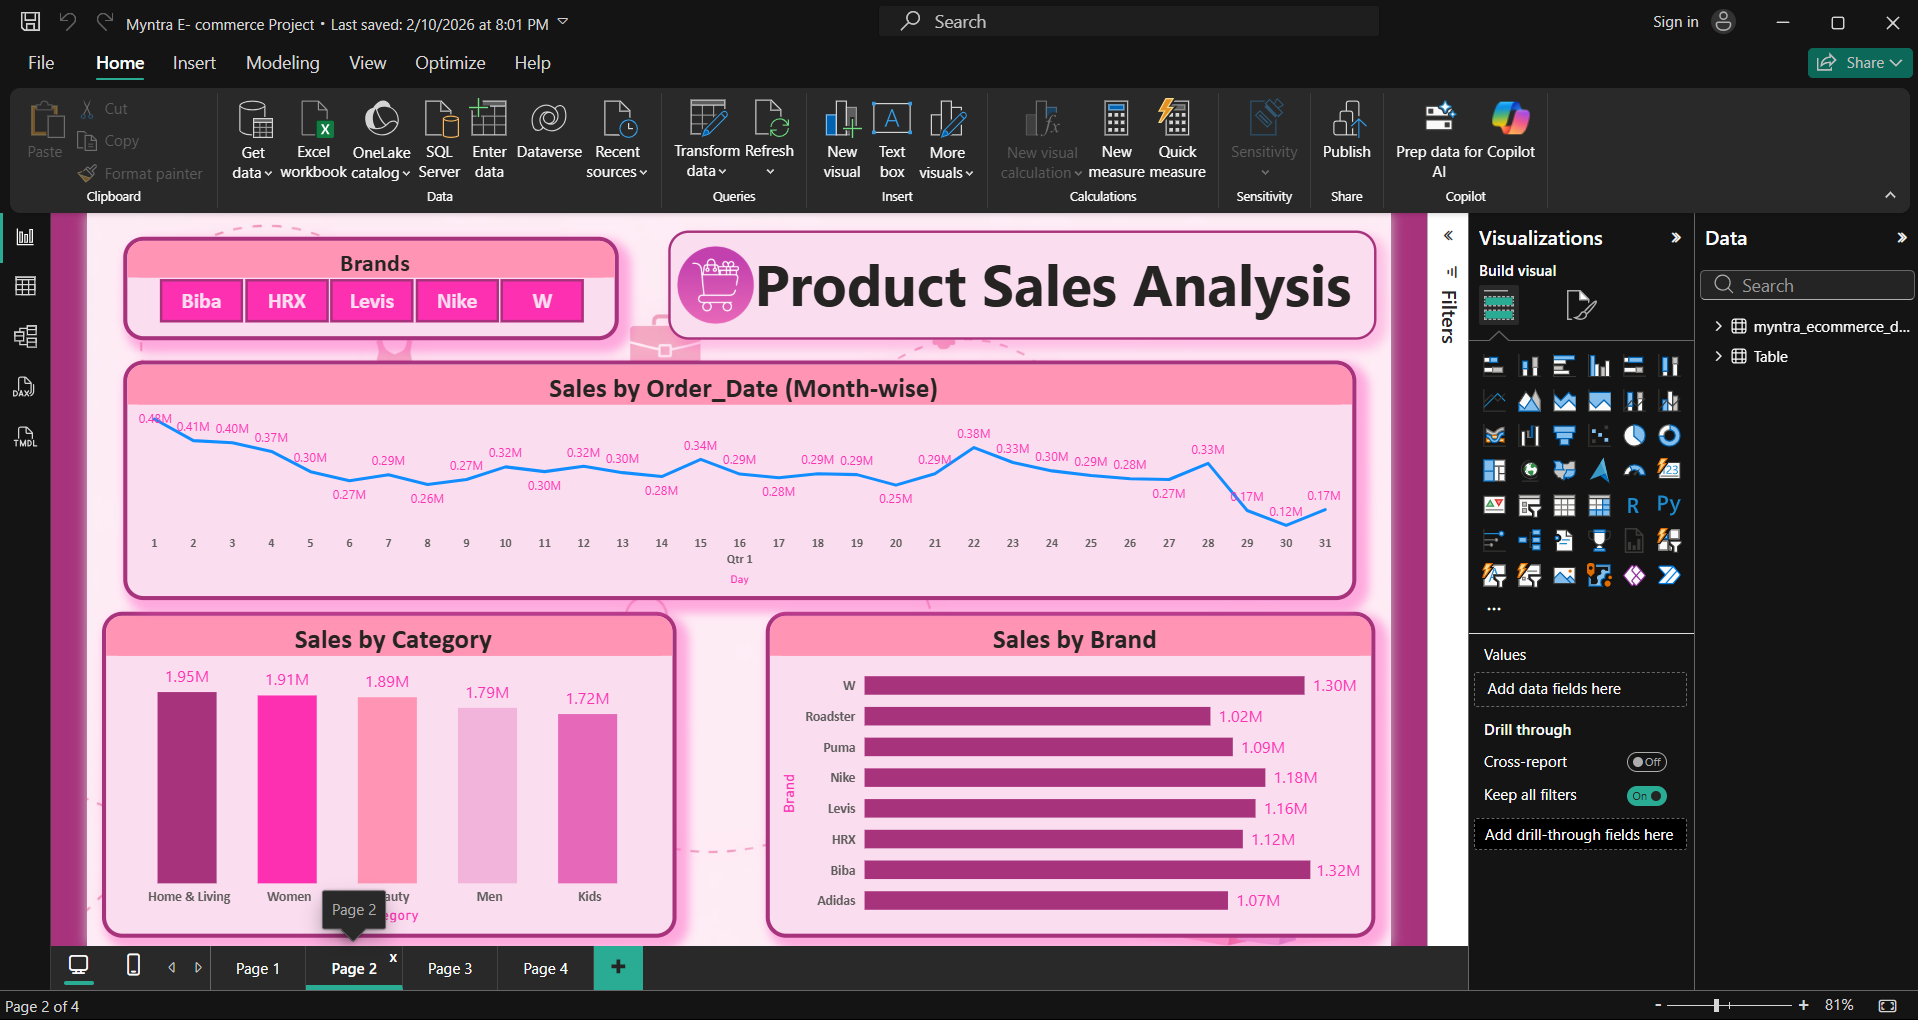

The dashboard page shown, as its layout file describes it:
{"tool":"powerbi","page":{"name":"Page 2","canvas":[1280,720],"ordinal":1},"visuals":[{"type":"clusteredColumnChart","title":"Sales by Category","fields":{"Category":["myntra_ecommerce_dataset (1).Category"],"Y":["Sum(myntra_ecommerce_dataset (1).Sales_Amount)"]},"box":[15,391.2,563.8,320],"z":0},{"type":"barChart","title":"Sales by Brand","fields":{"Category":["myntra_ecommerce_dataset (1).Brand"],"Y":["Sum(myntra_ecommerce_dataset (1).Sales_Amount)"]},"box":[666.2,391.2,598.8,320],"z":1000},{"type":"lineChart","title":"Sales by Order_Date (Month-wise)","fields":{"Y":["Sum(myntra_ecommerce_dataset (1).Sales_Amount)"],"Category":["myntra_ecommerce_dataset (1).Order_Date.Variation.Date Hierarchy.Quarter","myntra_ecommerce_dataset (1).Order_Date.Variation.Date Hierarchy.Day"]},"box":[35,145,1210,235],"z":2000},{"type":"textbox","box":[570,17.5,695,107.5],"z":3000},{"type":"image","box":[557.5,32.5,120,77.5],"z":4000},{"type":"slicer","title":"Brands","fields":{"Values":["myntra_ecommerce_dataset (1).Brand"]},"box":[35,23.8,486.2,101.2],"z":5000}]}

Visuals, with their boxes on the page's 1280x720 design canvas (x1, y1, x2, y2). These are canvas units, not pixel positions in the 1918x1020 screenshot, which may show the page scaled, cropped or inside an application window:
"Sales by Category" clusteredColumnChart: 15, 391, 579, 711
"Sales by Brand" barChart: 666, 391, 1265, 711
"Sales by Order_Date (Month-wise)" lineChart: 35, 145, 1245, 380
textbox: 570, 18, 1265, 125
image: 558, 32, 678, 110
"Brands" slicer: 35, 24, 521, 125
